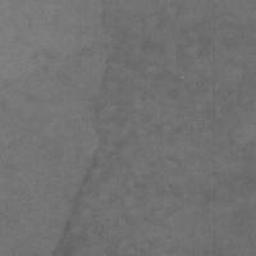Water spot: (50, 0, 256, 256)
